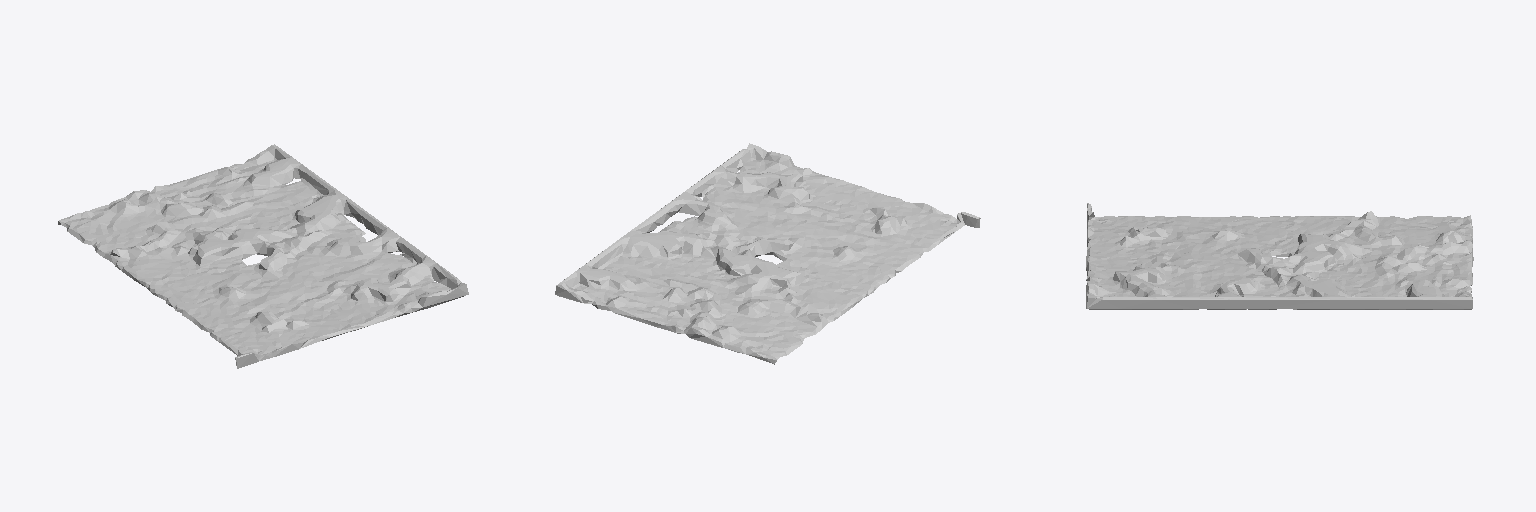
The picture shows the model from 3 angles: view 1: azimuth 30°, elevation 25°; view 2: azimuth 150°, elevation 25°; view 3: azimuth 270°, elevation 25°; orthographic projection.
Visible parts, largest first — view 1: Liquid_Domain; view 2: Liquid_Domain; view 3: Liquid_Domain.
Part boxes in pixels (left/top/right/bottom): Liquid_Domain: left=58, top=144, right=468, bottom=368; Liquid_Domain: left=555, top=143, right=980, bottom=364; Liquid_Domain: left=1086, top=203, right=1473, bottom=309.
Bounding box in the file's own units: 116 × 13.86 × 168.